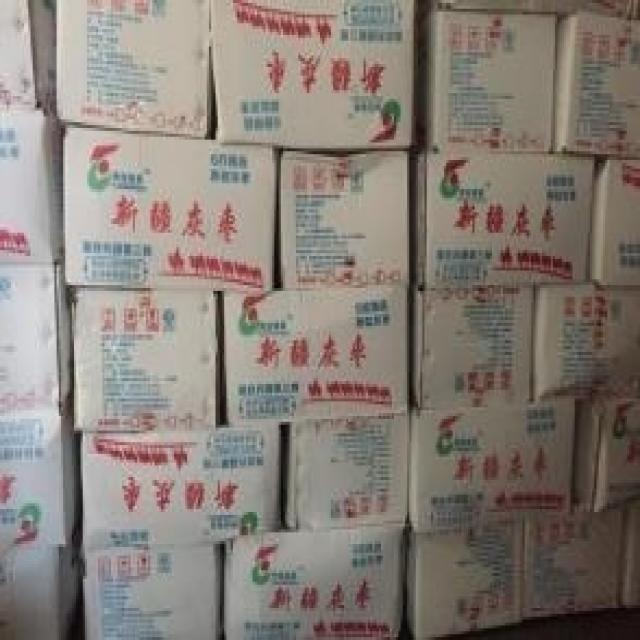box: (63, 128, 276, 291), (211, 0, 414, 148), (224, 288, 409, 425), (416, 154, 594, 288), (81, 428, 279, 547), (411, 401, 575, 532), (57, 0, 211, 137), (70, 288, 218, 428), (222, 527, 403, 640), (414, 12, 555, 154), (281, 151, 409, 288), (414, 288, 536, 404), (287, 416, 411, 529), (405, 524, 525, 640), (83, 544, 220, 640), (555, 12, 640, 157), (533, 288, 640, 399), (522, 509, 627, 620), (0, 265, 72, 416), (0, 413, 78, 547), (0, 111, 63, 268), (0, 532, 78, 640), (577, 401, 640, 512), (0, 3, 57, 113), (592, 160, 640, 288), (620, 503, 640, 608)
